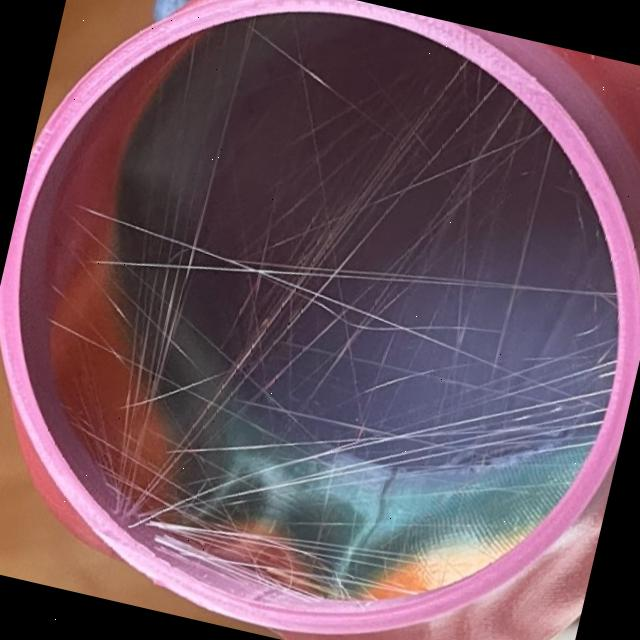stringing: (62, 0, 576, 629)
